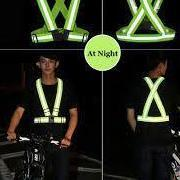Vest: (33, 78, 69, 128), (136, 74, 169, 125)
